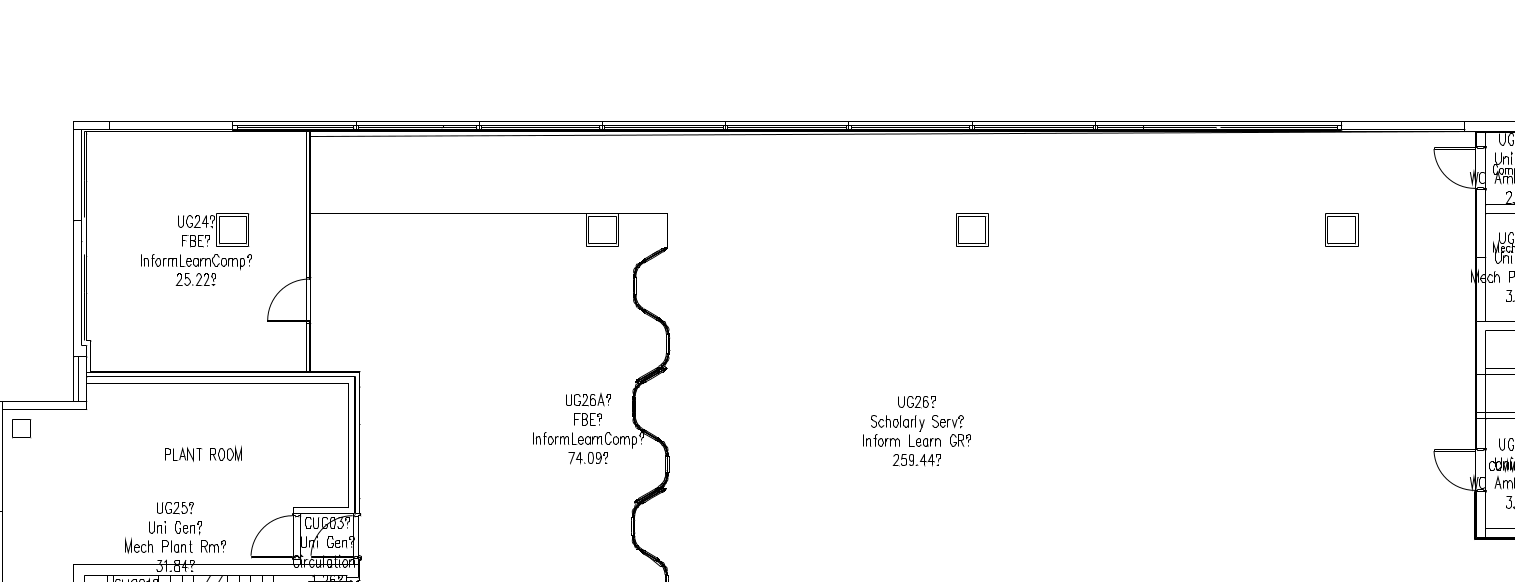door: (1421, 137, 1491, 198), (1425, 436, 1495, 497), (259, 273, 329, 334), (232, 504, 302, 565), (306, 503, 376, 564)
